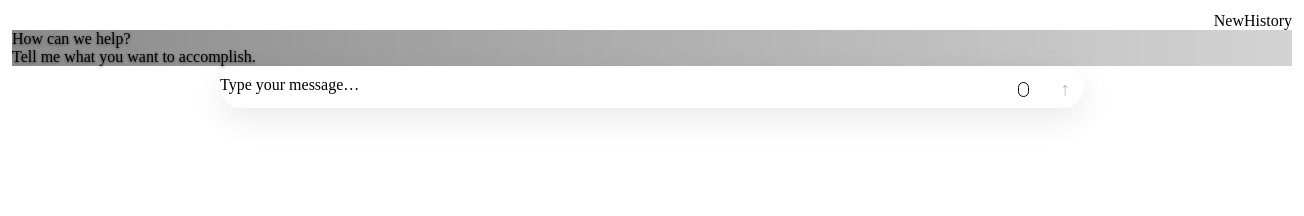
Test case: ConversationSurface › shows a calm, retryable error state and preserves the draft on 503
Type "Please help me plan." into the text box named "Message your steward". click: (612, 87)
box: top-left (220, 66), bottom-right (1005, 108)
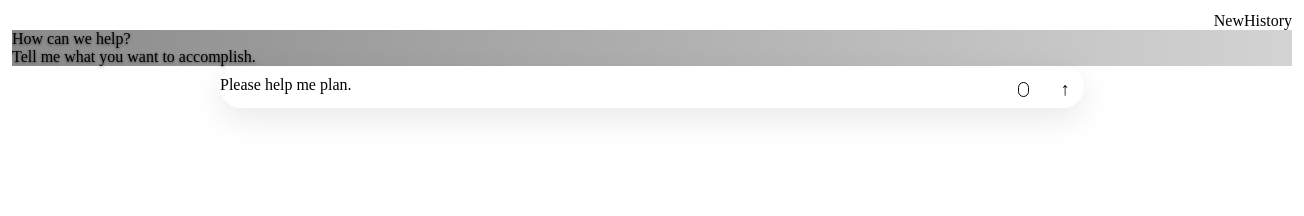
Click the button named "Send". click: (1065, 90)
box: top-left (1046, 71), bottom-right (1084, 108)
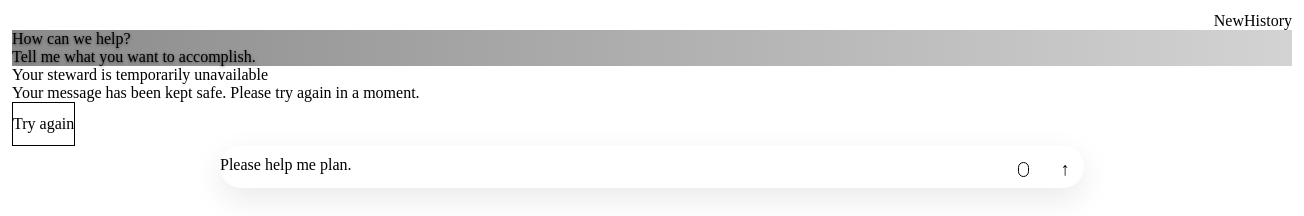
Now the text "Your steward is temporarily unavailable" is shown, box top-left (12, 66), bottom-right (268, 84)
Now the button "Try again" is shown, box top-left (12, 102), bottom-right (75, 146)
